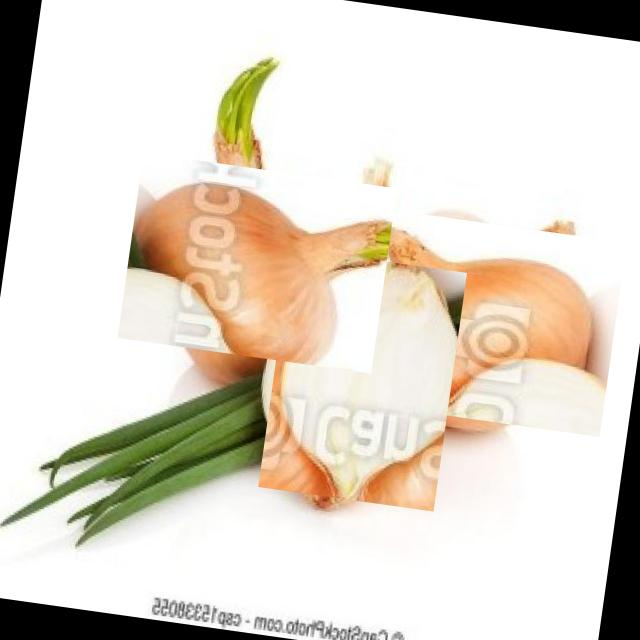Onion: (352, 191, 612, 452), (132, 137, 382, 388), (257, 247, 468, 512)
